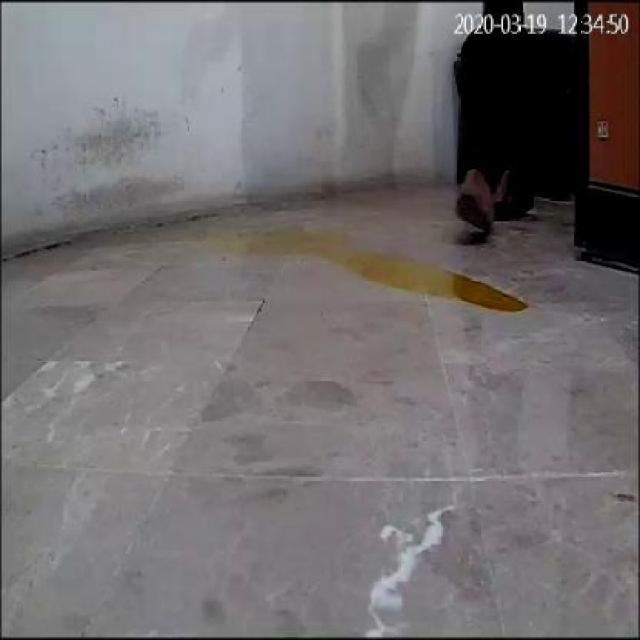spill: (237, 222, 528, 310)
